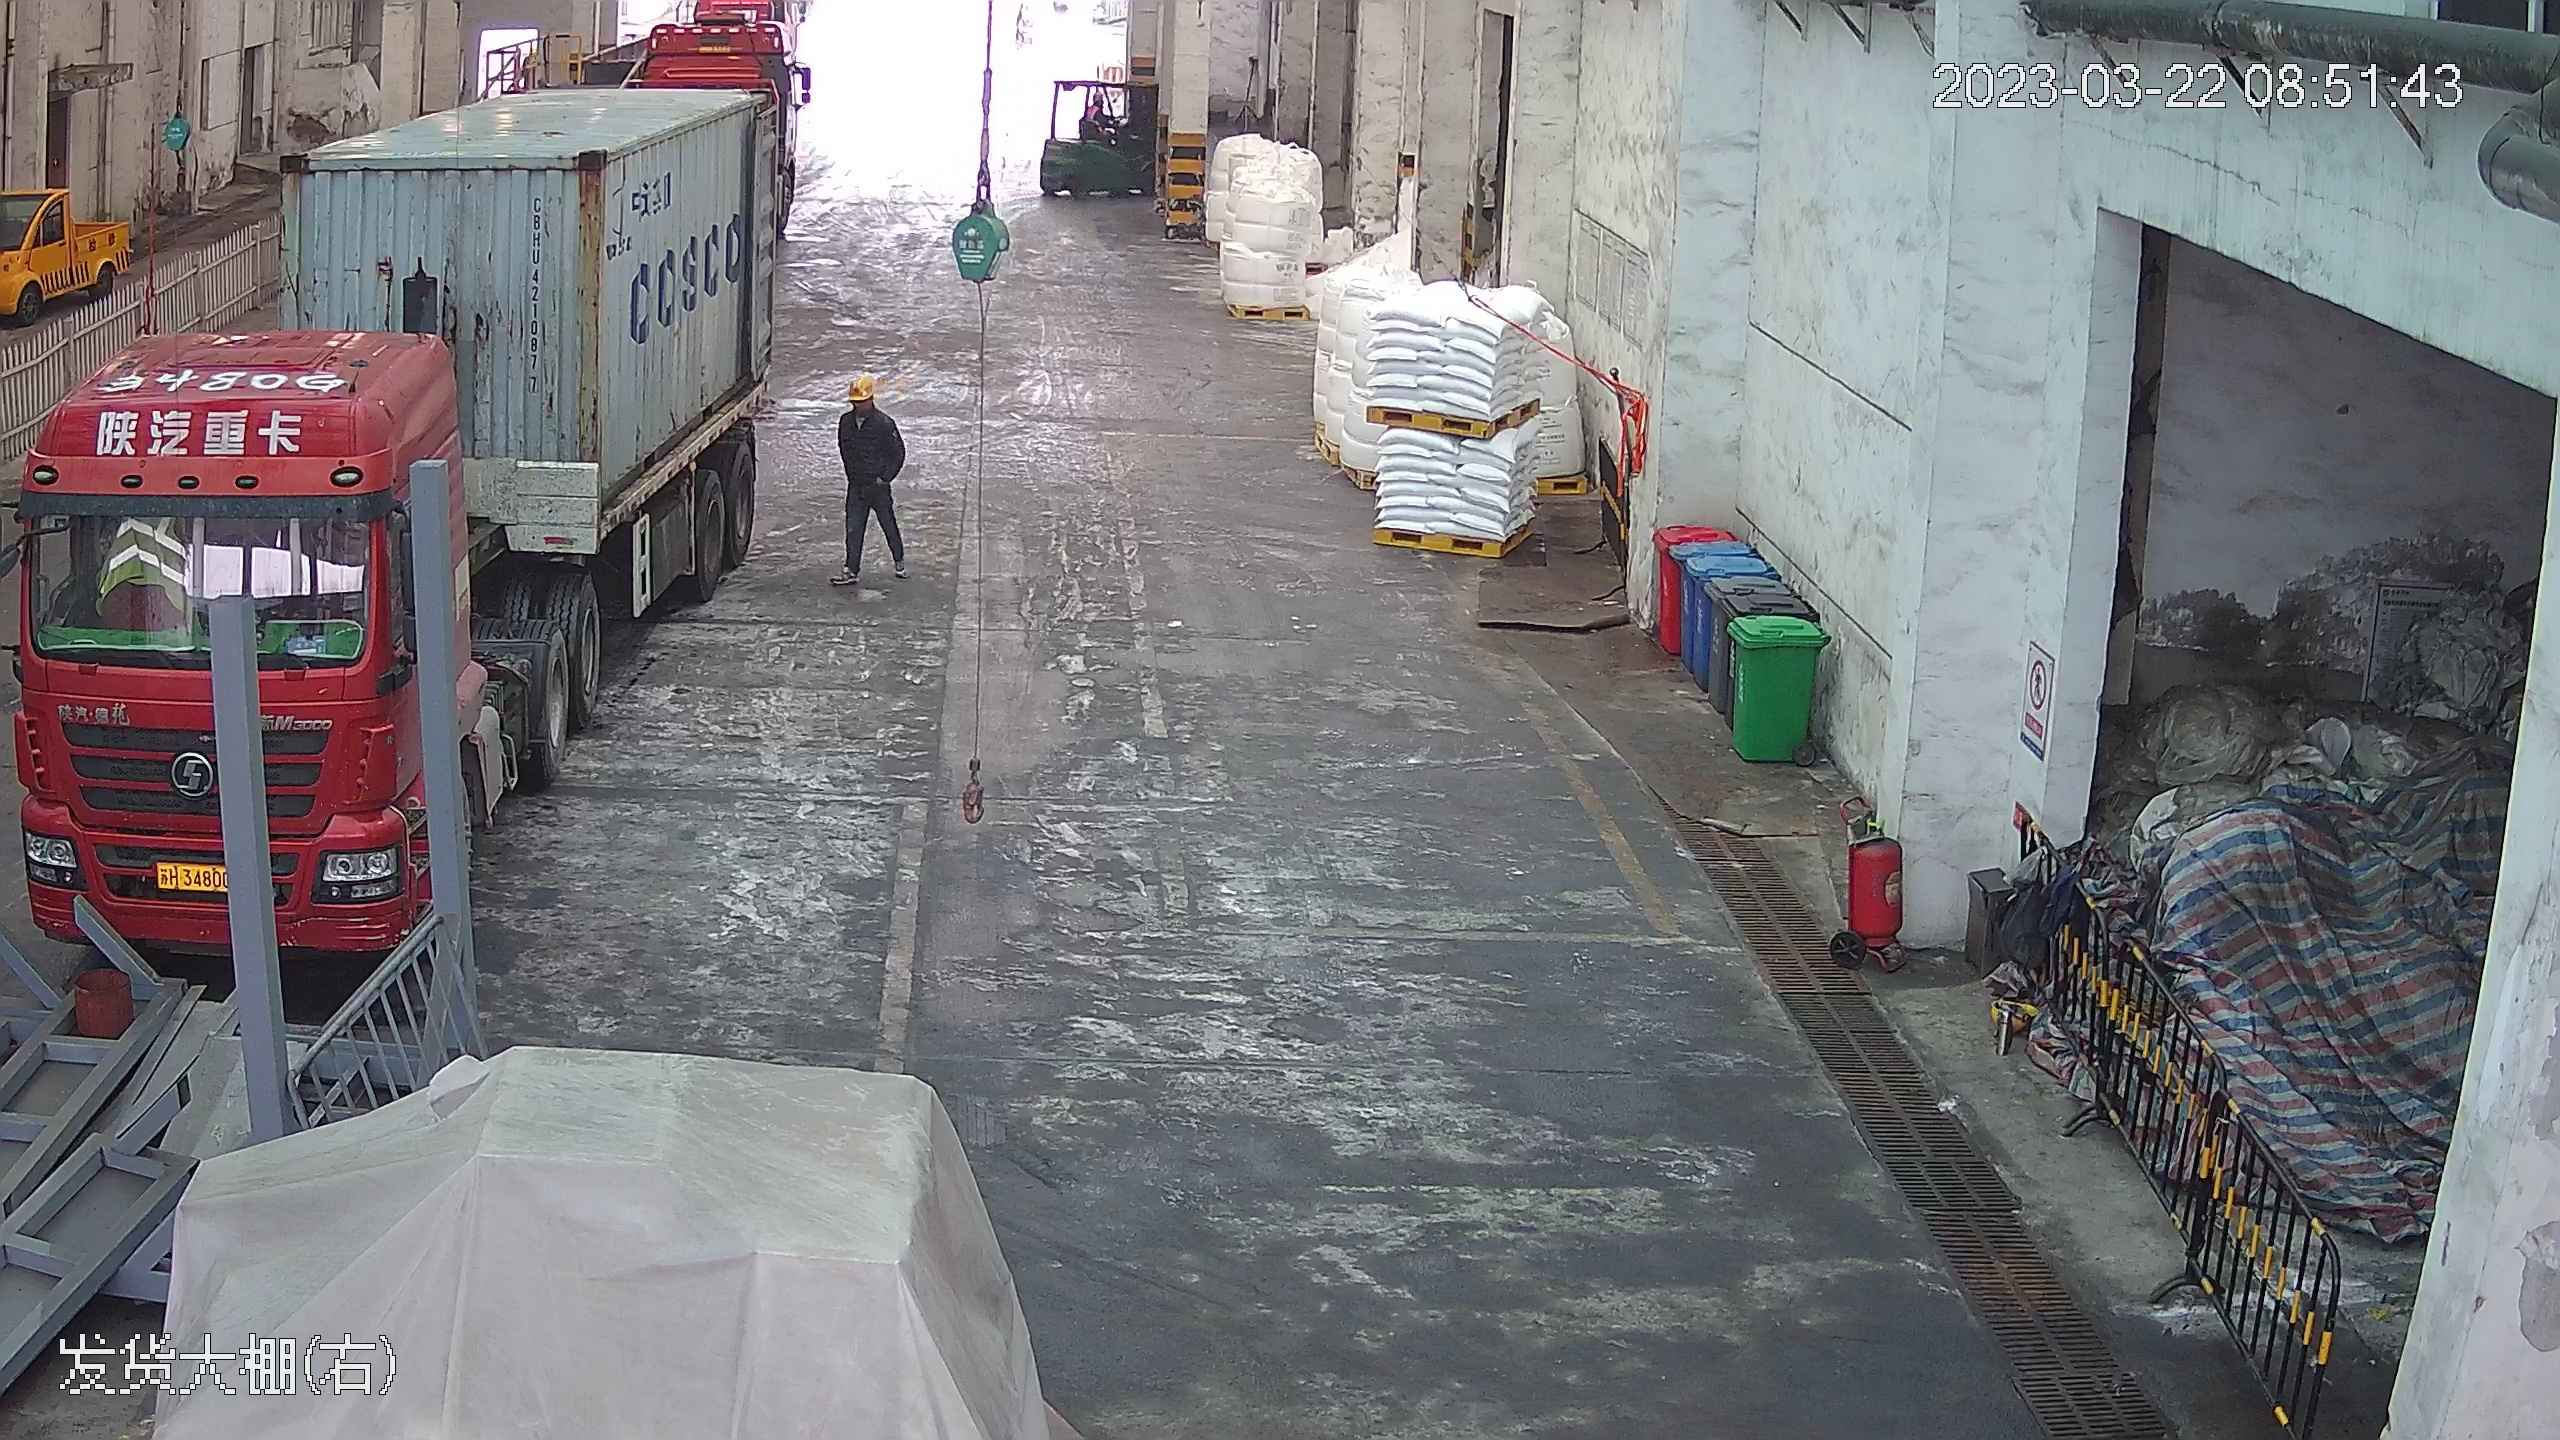head: (836, 372, 897, 444)
helmet: (846, 370, 879, 396)
people: (836, 368, 914, 585)
truck: (26, 13, 796, 973)
